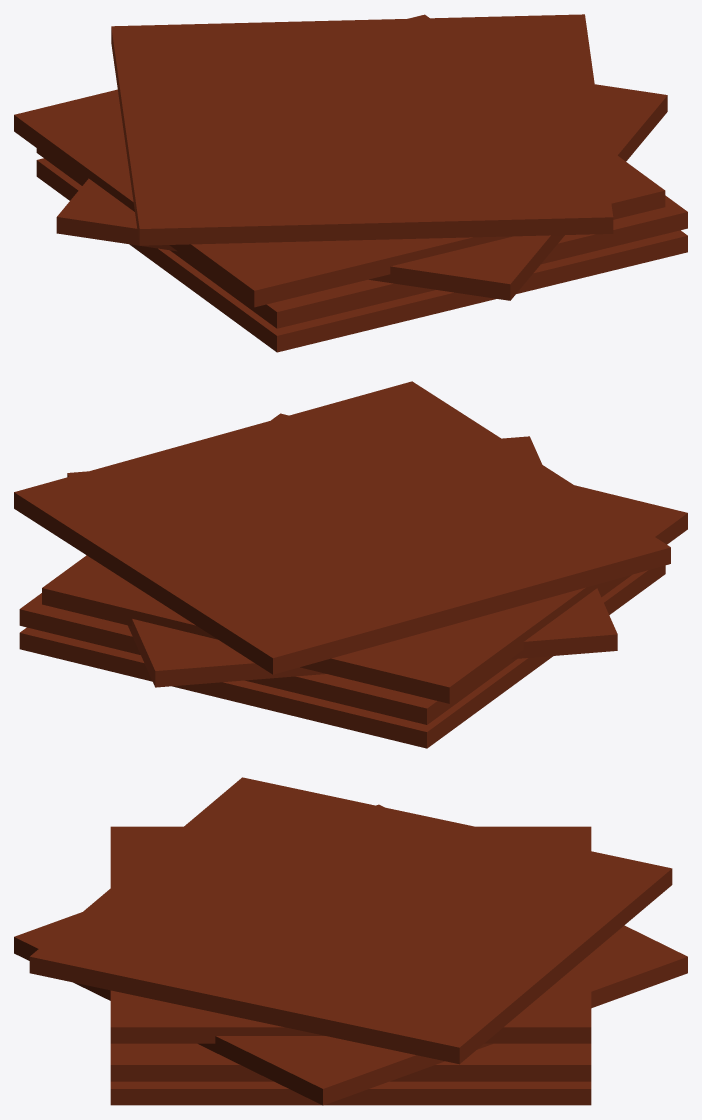
File: copper-sheets-1.glb
3 views of the same model, one above another, from view 1: azimuth 30°, elevation 25°; view 2: azimuth 150°, elevation 25°; view 3: azimuth 270°, elevation 25° (orthographic).
Visible parts, largest first — view 1: Box (×5); view 2: Box (×5); view 3: Box (×5).
Part boxes in pixels (x1=…): Box (×5): x1=14, y1=14, x2=687, y2=352; Box (×5): x1=14, y1=381, x2=687, y2=748; Box (×5): x1=14, y1=777, x2=687, y2=1105.
Size of the model in its own units: 7.42 by 1.13 by 7.43.
